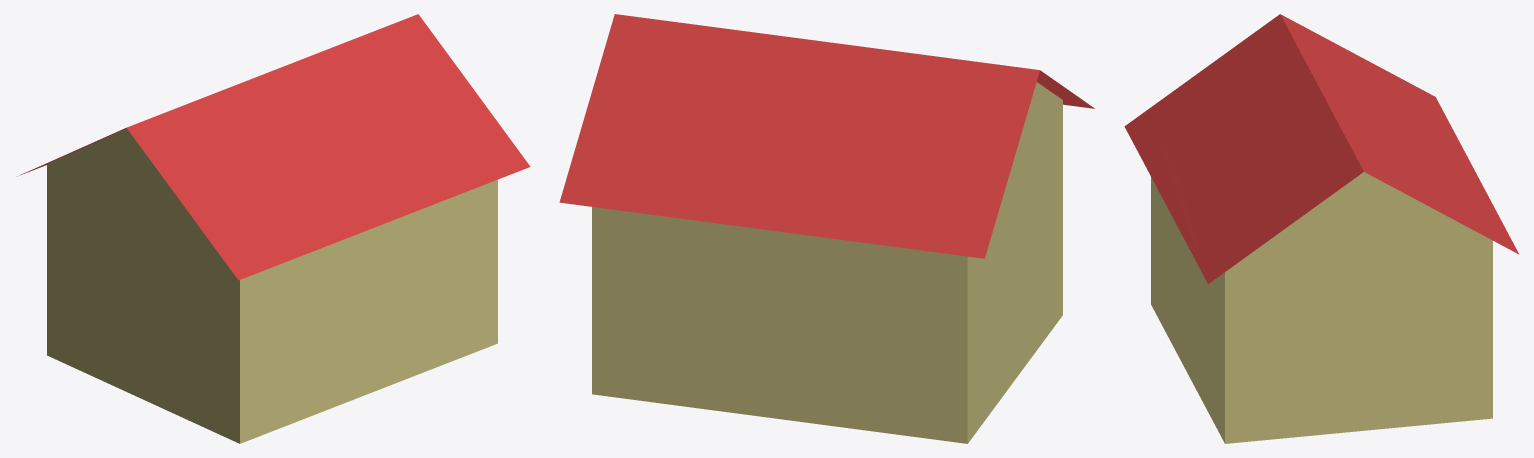
The picture shows the model from 3 angles, left to right: view 1: azimuth 30°, elevation 25°; view 2: azimuth 150°, elevation 25°; view 3: azimuth 270°, elevation 25°; orthographic projection. The views are drawn at different scales.
Size of the model in its own units: 14.94 by 13.32 by 9.99.
